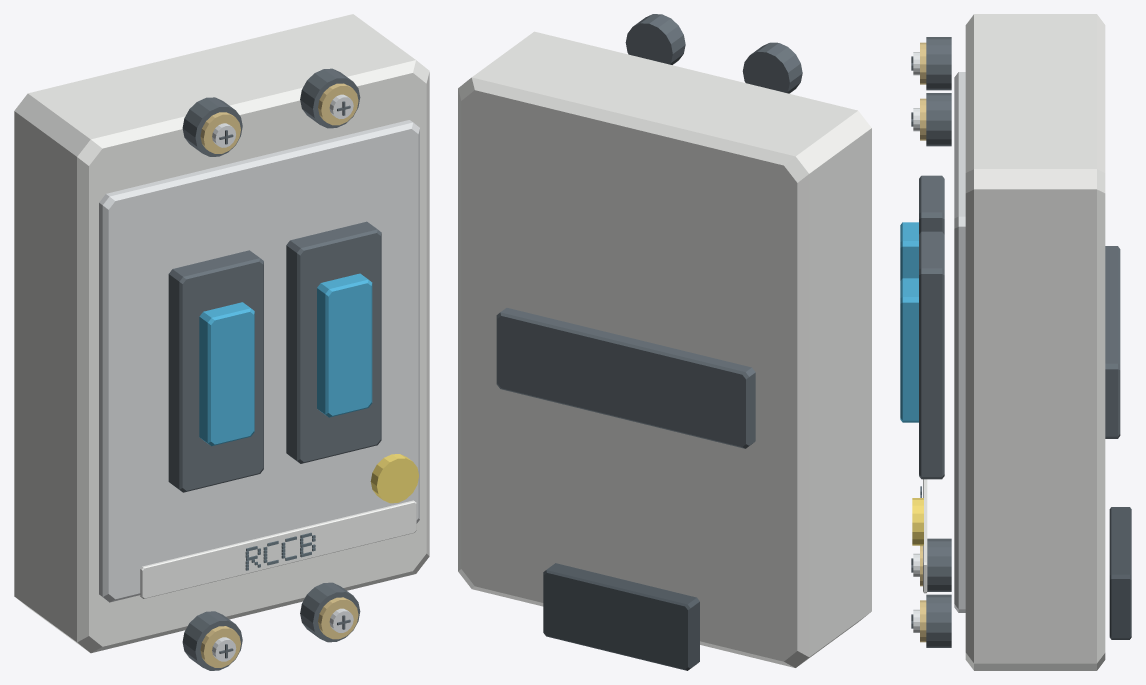
File: rccb2P.glb
The picture shows the model from 3 angles, left to right: view 1: azimuth 30°, elevation 25°; view 2: azimuth 150°, elevation 25°; view 3: azimuth 270°, elevation 25°; orthographic projection. The views are drawn at different scales.
Visible parts, largest first — view 1: rccb2P-preview; view 2: rccb2P-preview; view 3: rccb2P-preview.
Part boxes in pixels (box(x1,y1,x2,y2)): rccb2P-preview: box(14, 14, 429, 670); rccb2P-preview: box(458, 14, 871, 670); rccb2P-preview: box(900, 14, 1131, 670).
Size of the model in its own units: 2.33 by 3.56 by 1.36.
